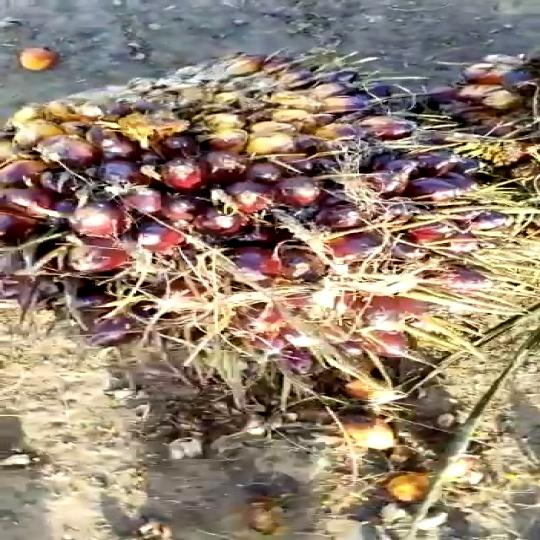mentah: (0, 49, 538, 370)
